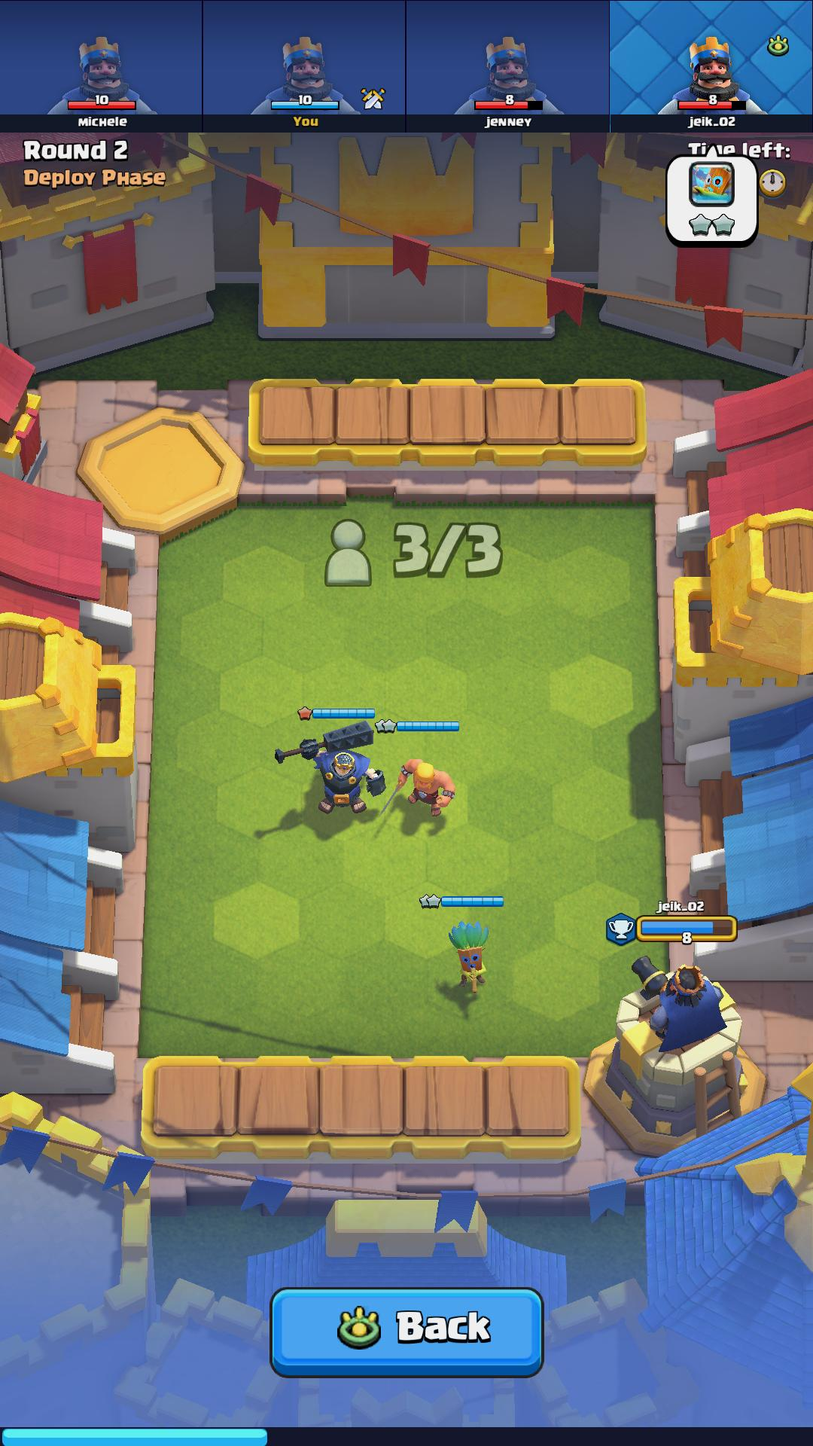barbarian: (385, 748, 457, 821)
dart: (434, 914, 494, 1003)
king: (267, 718, 389, 818)
